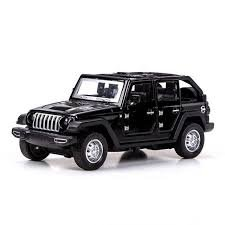mobil: (22, 65, 210, 172)
